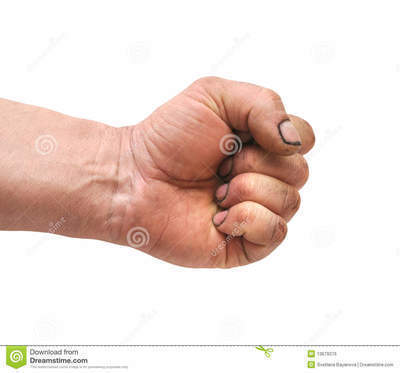closedhandfront: (129, 47, 317, 289)
